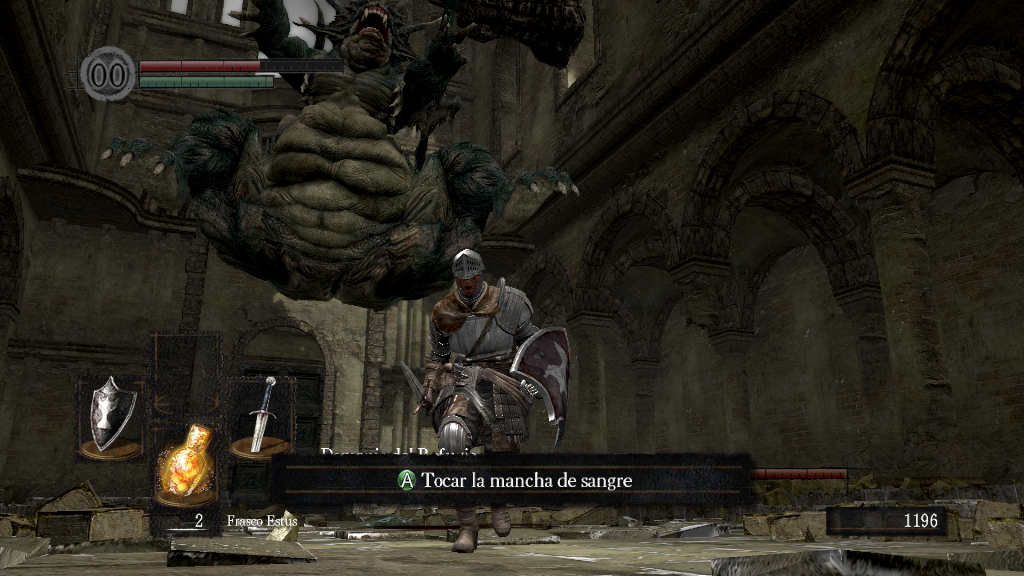asylumDemon: (91, 2, 585, 313)
dialogBox: (274, 455, 752, 508)
health: (138, 58, 343, 71)
humanity: (80, 45, 136, 102)
player: (399, 248, 572, 553)
souls: (825, 506, 945, 536)
stamina: (138, 74, 274, 88)
